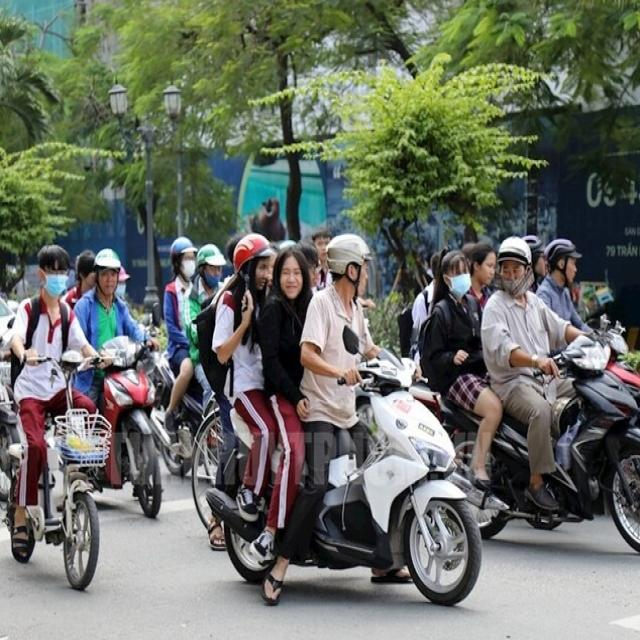1-2-helmet: (326, 234, 374, 275), (232, 232, 276, 274)
Face and Hair: (36, 243, 74, 299), (271, 241, 309, 293)
